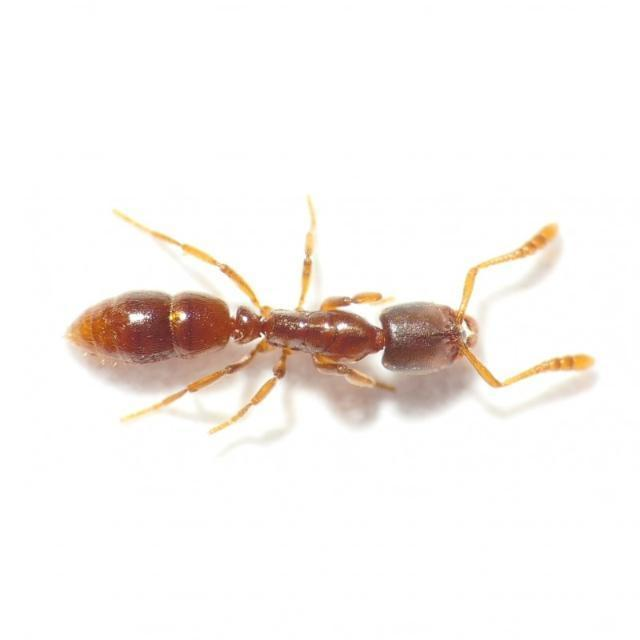Ponera: (32, 238, 558, 404)
